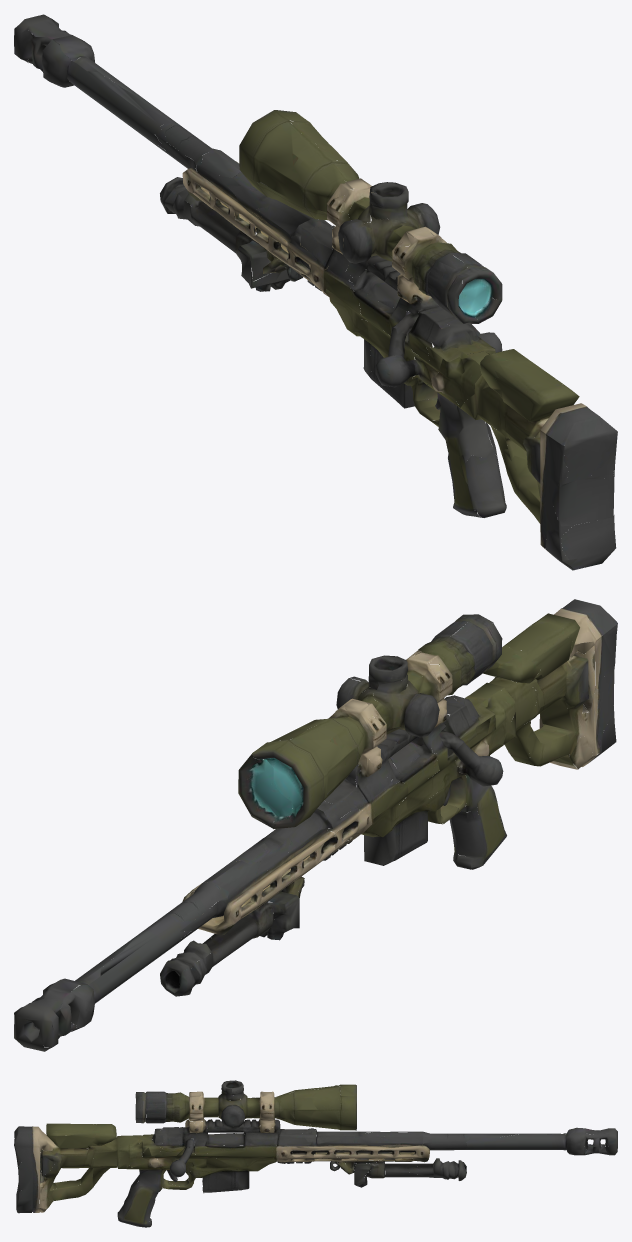
The model's file is sniper.glb.
3 views of the same model, one above another, from view 1: azimuth 30°, elevation 25°; view 2: azimuth 150°, elevation 25°; view 3: azimuth 270°, elevation 25° (orthographic). The views are drawn at different scales.
Visible parts, largest first — view 1: tripo_node_1de75767-504d-4900-a9fc-c74e90e406f3; view 2: tripo_node_1de75767-504d-4900-a9fc-c74e90e406f3; view 3: tripo_node_1de75767-504d-4900-a9fc-c74e90e406f3.
Boxes of the visible parts, x1,y1,x2,y2 form: tripo_node_1de75767-504d-4900-a9fc-c74e90e406f3: (14,14,617,570); tripo_node_1de75767-504d-4900-a9fc-c74e90e406f3: (14,599,617,1051); tripo_node_1de75767-504d-4900-a9fc-c74e90e406f3: (14,1080,617,1227).
Size of the model in its own units: 0.1253 by 0.2571 by 1.
Materials: 1 (1 with a texture image).
